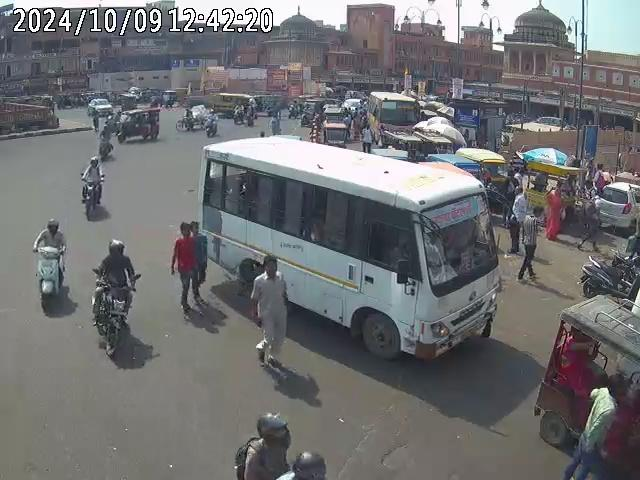auto: (532, 292, 639, 479), (117, 105, 161, 141), (320, 104, 351, 148)
bus: (192, 134, 501, 364), (368, 90, 421, 144)
car: (594, 181, 639, 233)
helmet: (254, 412, 290, 444), (106, 239, 125, 257), (44, 217, 61, 232)
motorbike-rider: (89, 239, 141, 356), (78, 153, 106, 220)
person: (246, 258, 290, 370), (170, 218, 211, 320), (544, 183, 565, 241)
scooty-rider: (29, 216, 68, 311)
